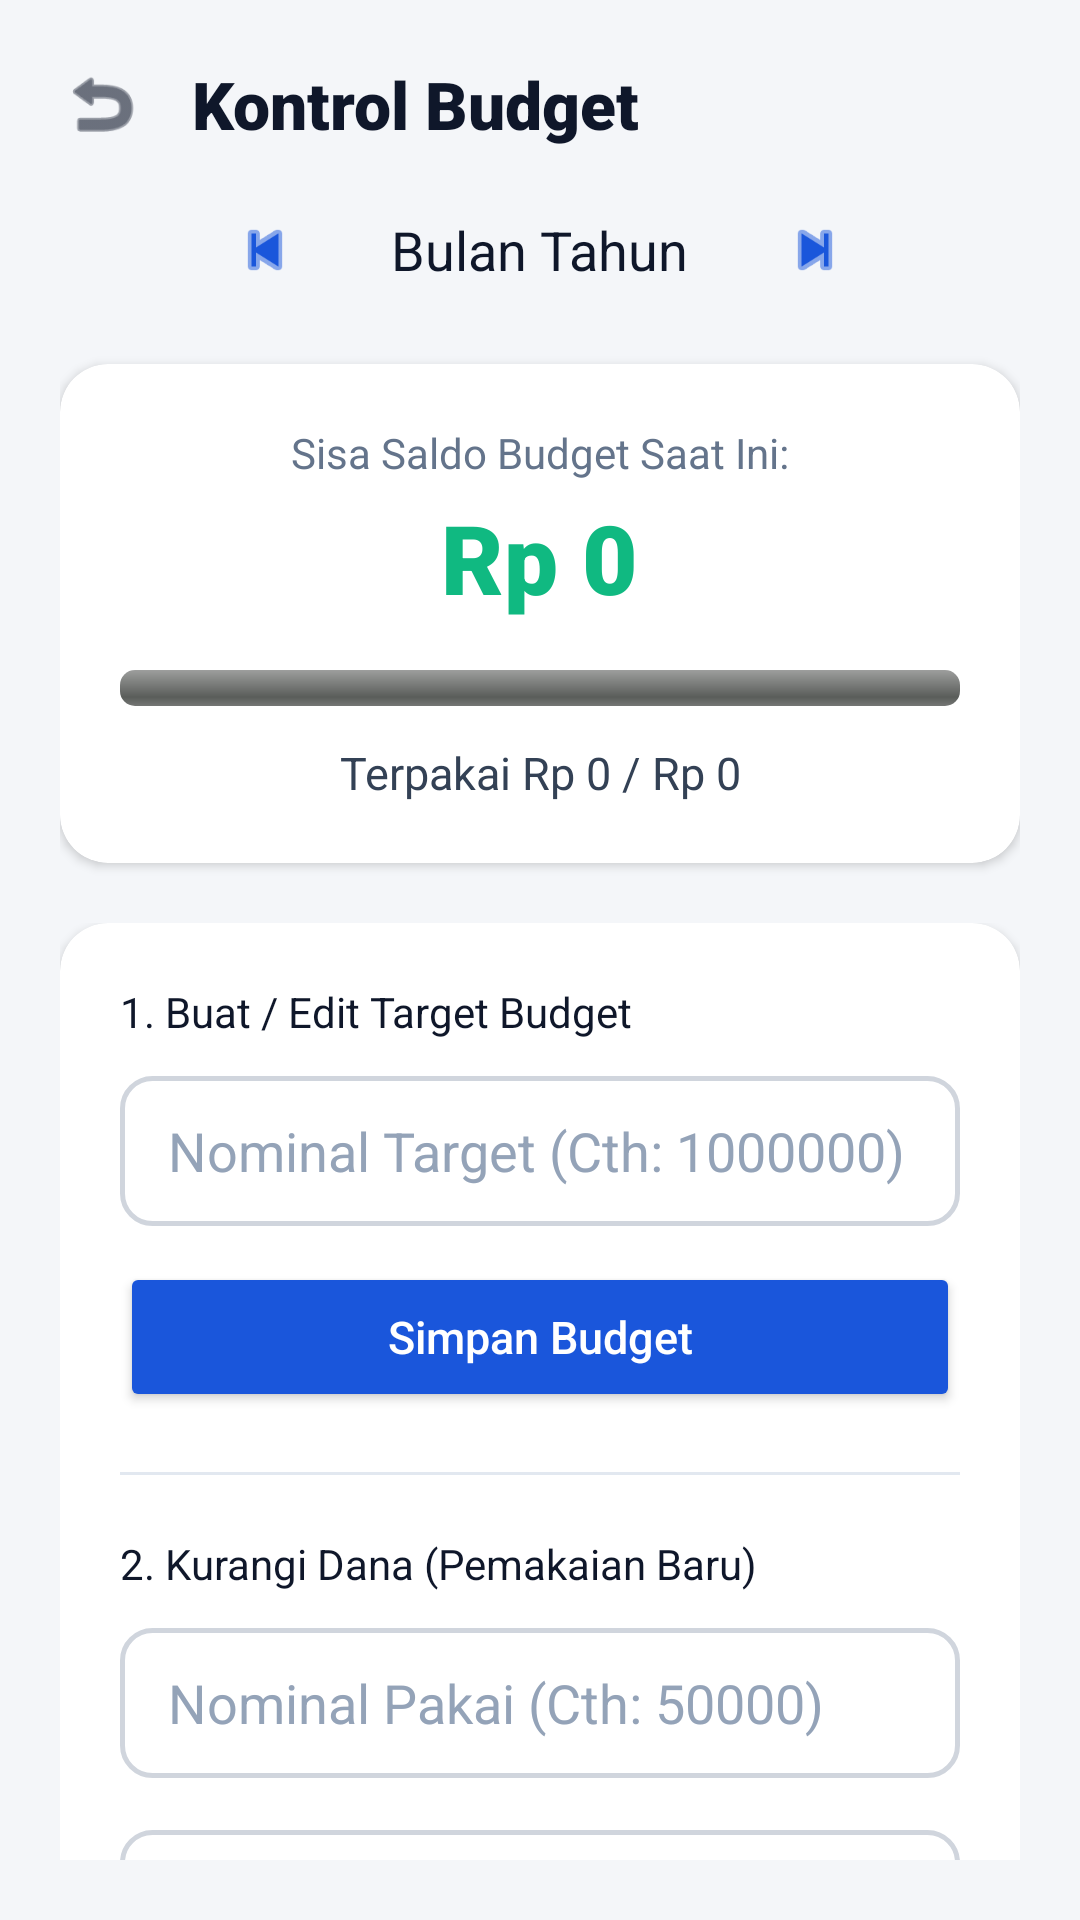

Named icons in this screenshot (1080 x 1920) and their bounding boxes, (x1, y1, x2, y2):
next: (798, 230, 832, 270)
previous: (248, 230, 282, 270)
revert: (73, 77, 133, 132)
